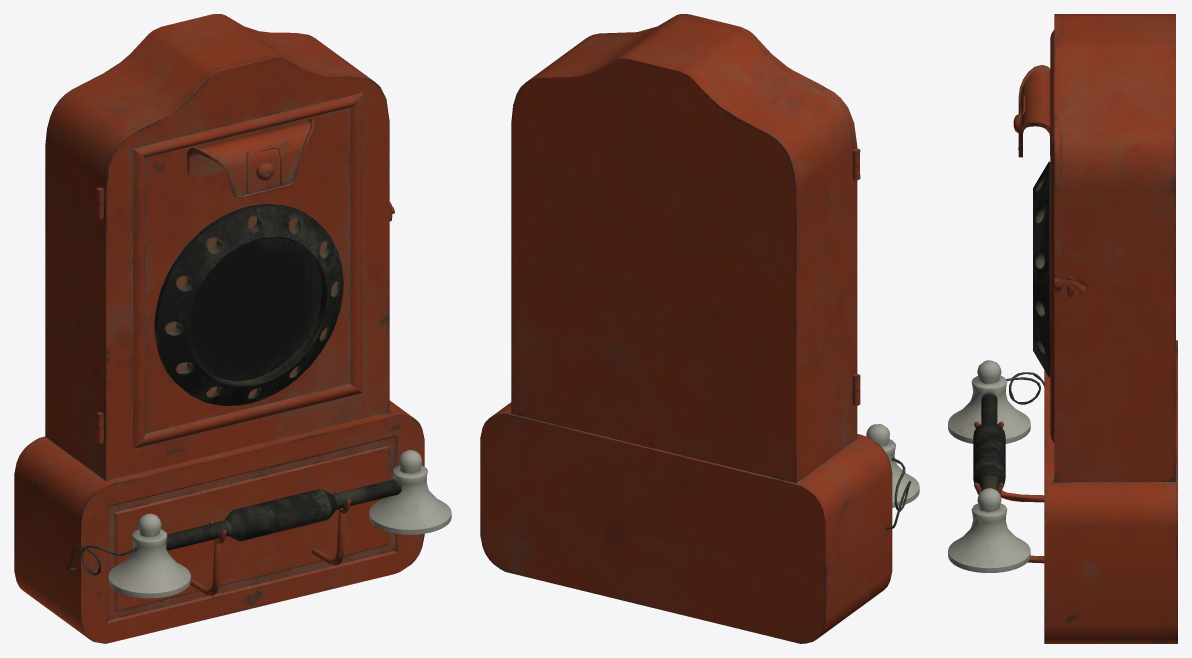
Rendered from vintage_telephone_wall_clock.glb.
The picture shows the model from 3 angles, left to right: view 1: azimuth 30°, elevation 25°; view 2: azimuth 150°, elevation 25°; view 3: azimuth 270°, elevation 25°; orthographic projection.
Visible parts, largest first — view 1: vintage_telephone_wall_clock; view 2: vintage_telephone_wall_clock; view 3: vintage_telephone_wall_clock.
Part boxes in pixels (bbox=[...]): vintage_telephone_wall_clock: bbox=[14, 14, 451, 643]; vintage_telephone_wall_clock: bbox=[480, 14, 919, 643]; vintage_telephone_wall_clock: bbox=[948, 14, 1177, 643].
Size of the model in its own units: 0.3426 by 0.5012 by 0.1926.
2 materials, 2 textured.
